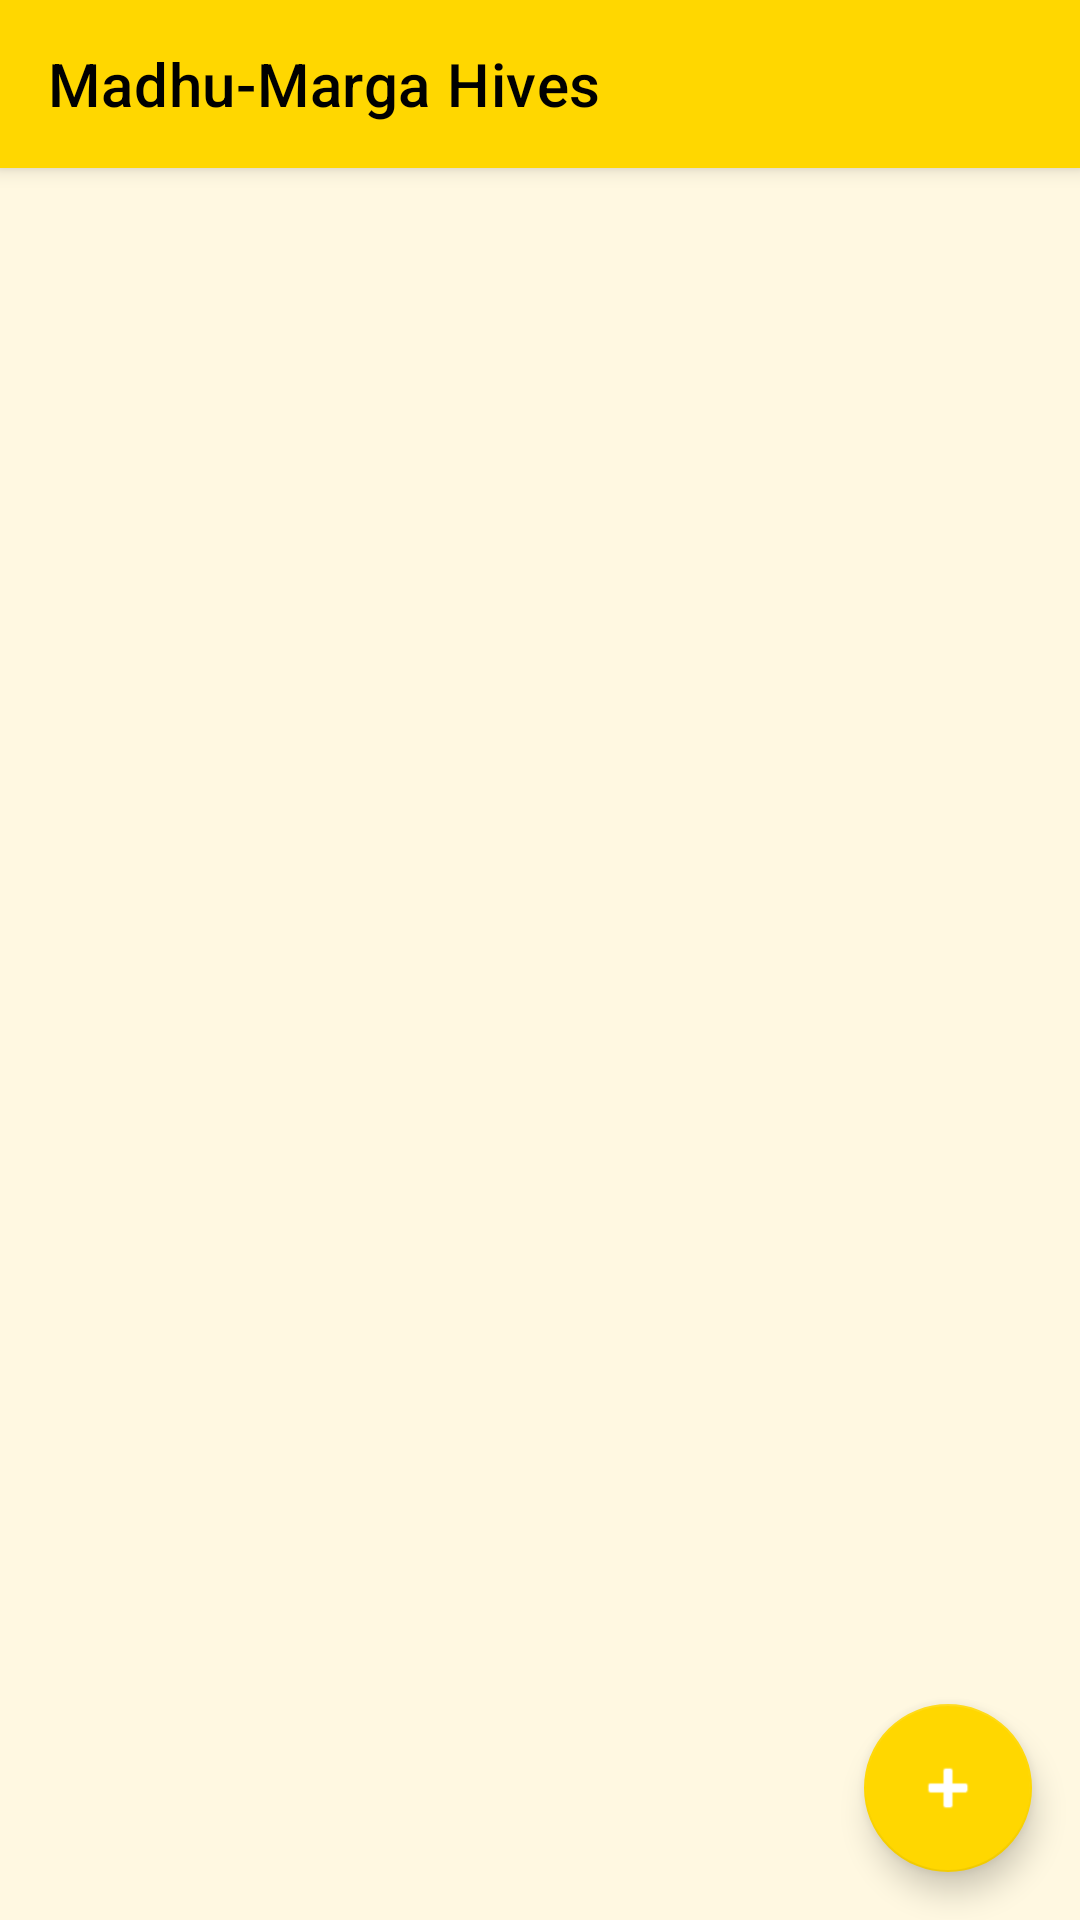

Locate icon controls on the screen. Image size 1080w x 1920h, boxes as [x1=x1, y1=y1, x2=x2, y2=y2].
Add Hive: [x1=864, y1=1704, x2=1032, y2=1872]
